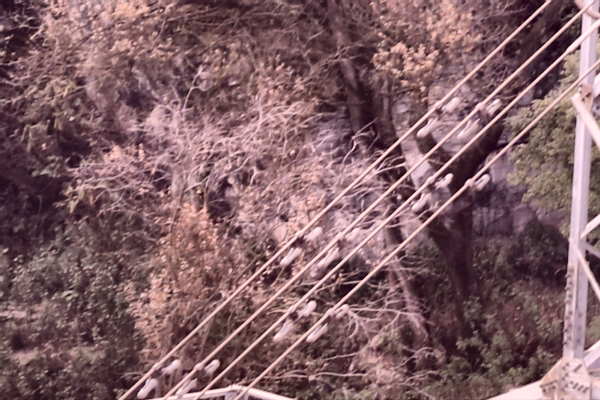damper: (271, 297, 318, 345), (455, 95, 503, 142), (414, 94, 461, 139), (278, 223, 323, 269), (175, 356, 222, 400), (409, 169, 456, 213), (306, 301, 351, 346), (318, 225, 361, 271), (136, 358, 180, 399)
damper_defect: (461, 172, 492, 199)
